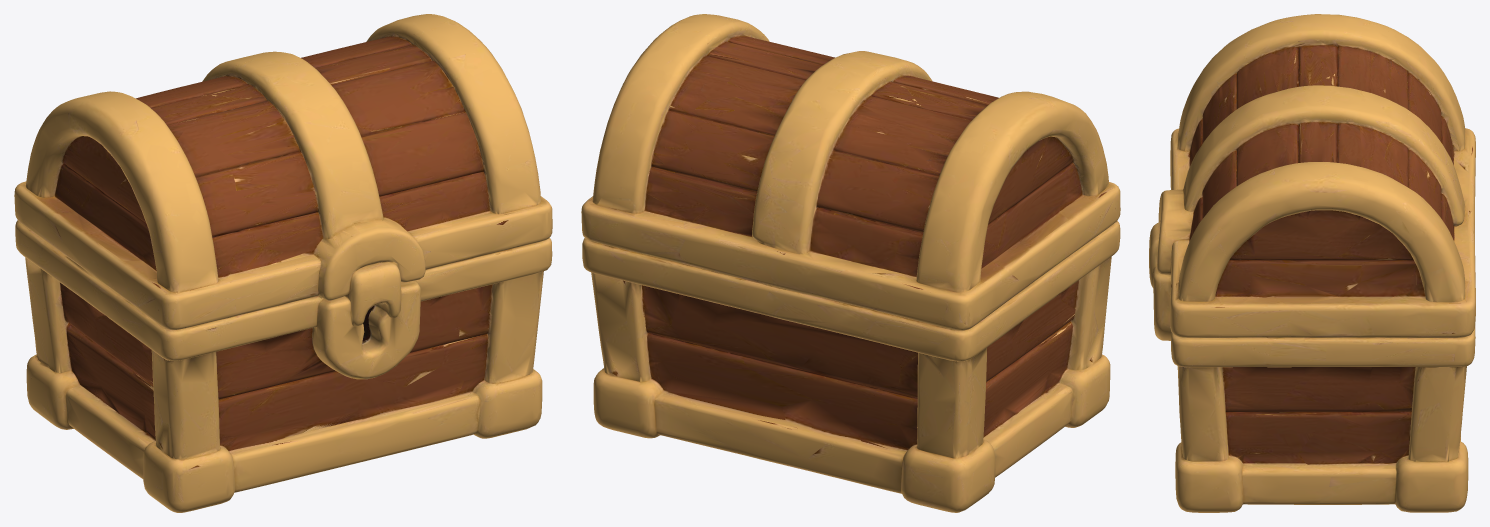
File: 05_chest.glb
3 renders of one model, left to right at view 1: azimuth 30°, elevation 25°; view 2: azimuth 150°, elevation 25°; view 3: azimuth 270°, elevation 25°, orthographic. The views are drawn at different scales.
Parts seen in each view (by area): view 1: node_0; view 2: node_0; view 3: node_0.
Part boxes in pixels (x1,y1,x2,y2): node_0: [14, 14, 552, 512]; node_0: [581, 14, 1120, 512]; node_0: [1149, 14, 1475, 512].
Bounding box in the file's own units: 1.15 × 1 × 0.8789.
1 material, 1 textured.
